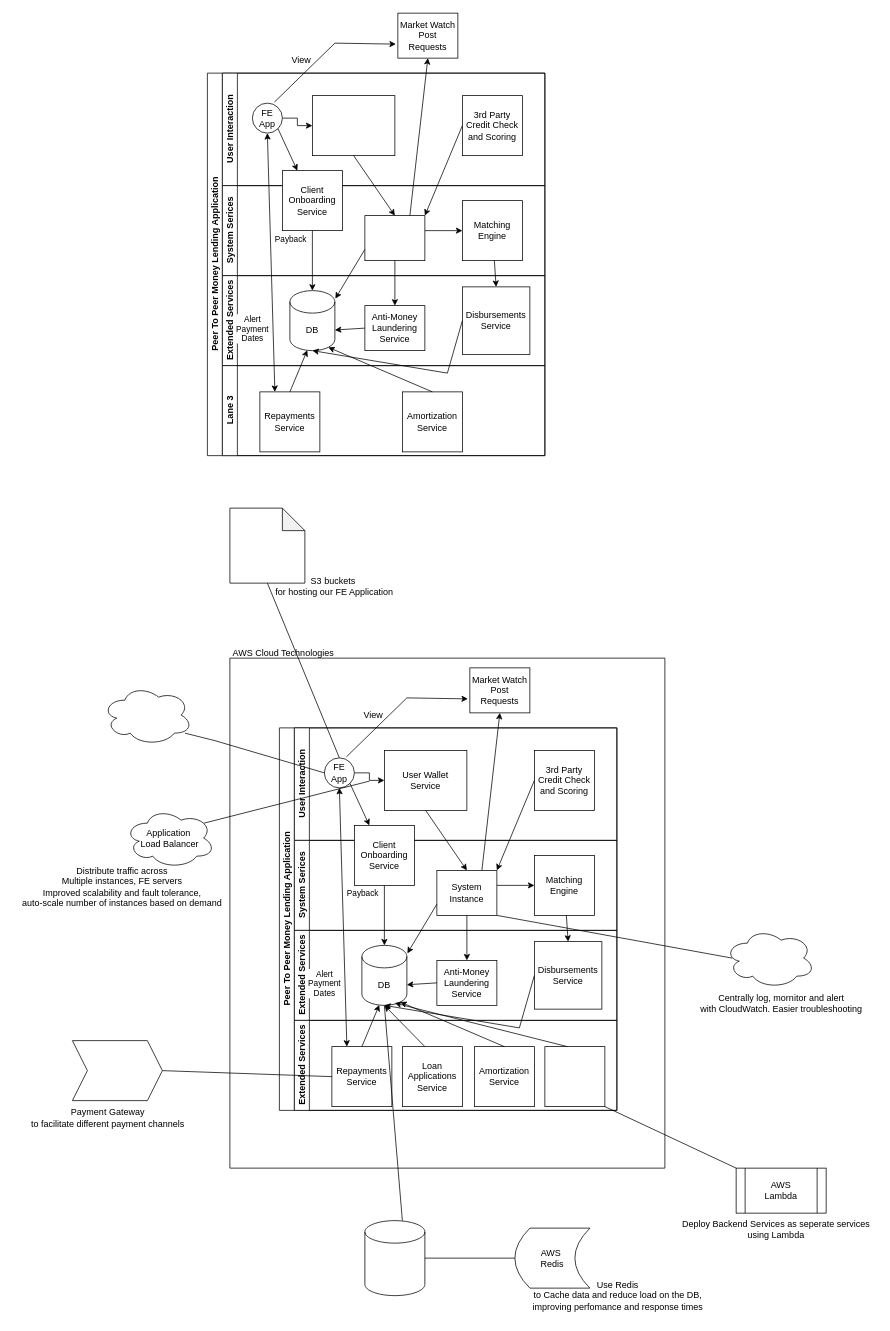
This 890x1331 diagram has some shape labels left out. The shapes that lost their labels are listed below. From the top down, each one's centre as x and y in pixels, then its label:
the point at 353,125: 3rd Party System (Bank Wallet - Core Banking System)
the point at 394,238: System Server
the point at 267,545: AWS S3
the point at 147,714: AWS Auth (AWS Cognito)
the point at 447,912: Loan Applications & Listings
the point at 769,957: AWS CloudWatch
the point at 117,1070: Payment Gateway
the point at 574,1076: Loan Listings Service
the point at 394,1258: AWS RDS
